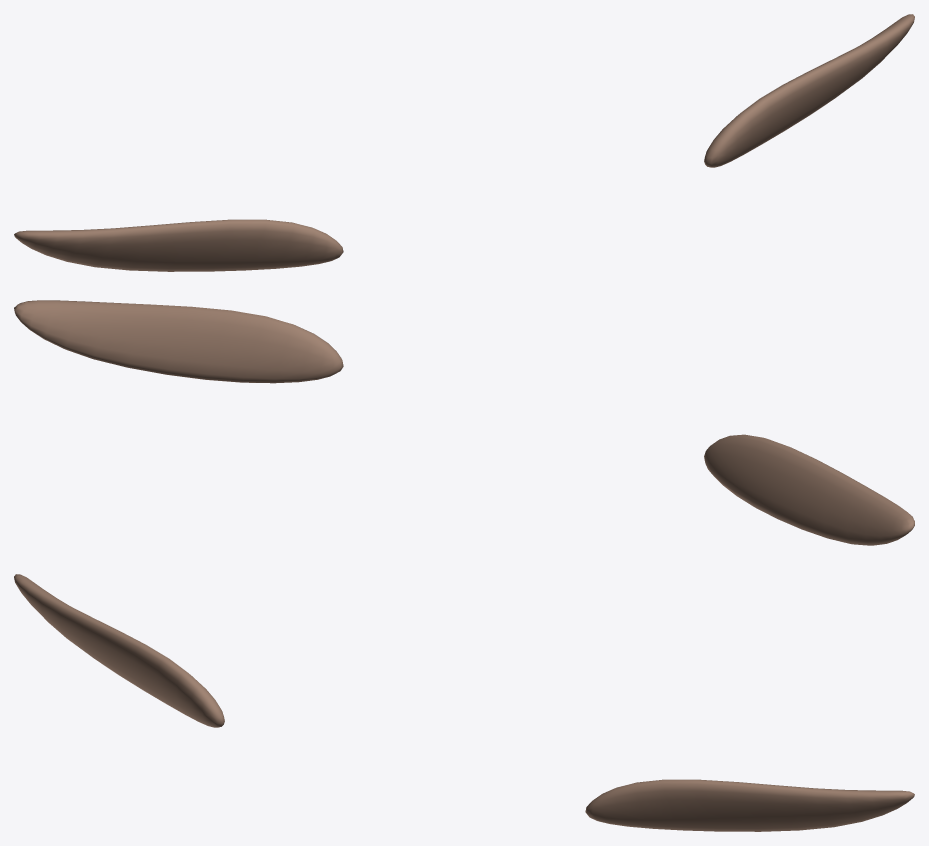
3 renders of one model, top to bottom at view 1: azimuth 30°, elevation 25°; view 2: azimuth 150°, elevation 25°; view 3: azimuth 330°, elevation 25°, orthographic.
Parts seen in each view (by area): view 1: eye_person9; view 2: eye_person9; view 3: eye_person9.
Part boxes in pixels (box(x1,y1,x2,y2)): eye_person9: box(14, 14, 914, 271); eye_person9: box(14, 300, 914, 545); eye_person9: box(14, 574, 914, 831).
Bounding box in the file's own units: 1.18 × 0.0774 × 0.1523.
